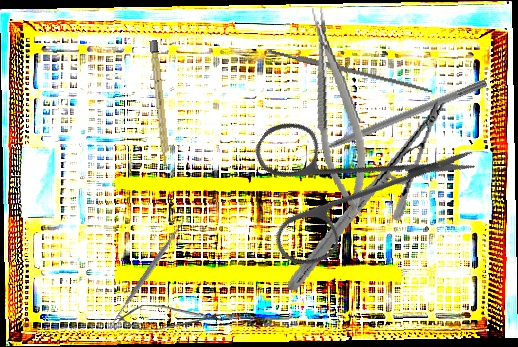Iris Scissors: (213, 49, 481, 318)
Micro Scissor: (116, 304, 225, 331)
Needle Holder: (287, 80, 445, 311), (300, 3, 376, 222)
Pusher: (296, 76, 488, 163)
Scalpel Handle: (266, 46, 434, 95), (149, 39, 171, 169)
Spatula Surgical: (103, 214, 193, 332)
